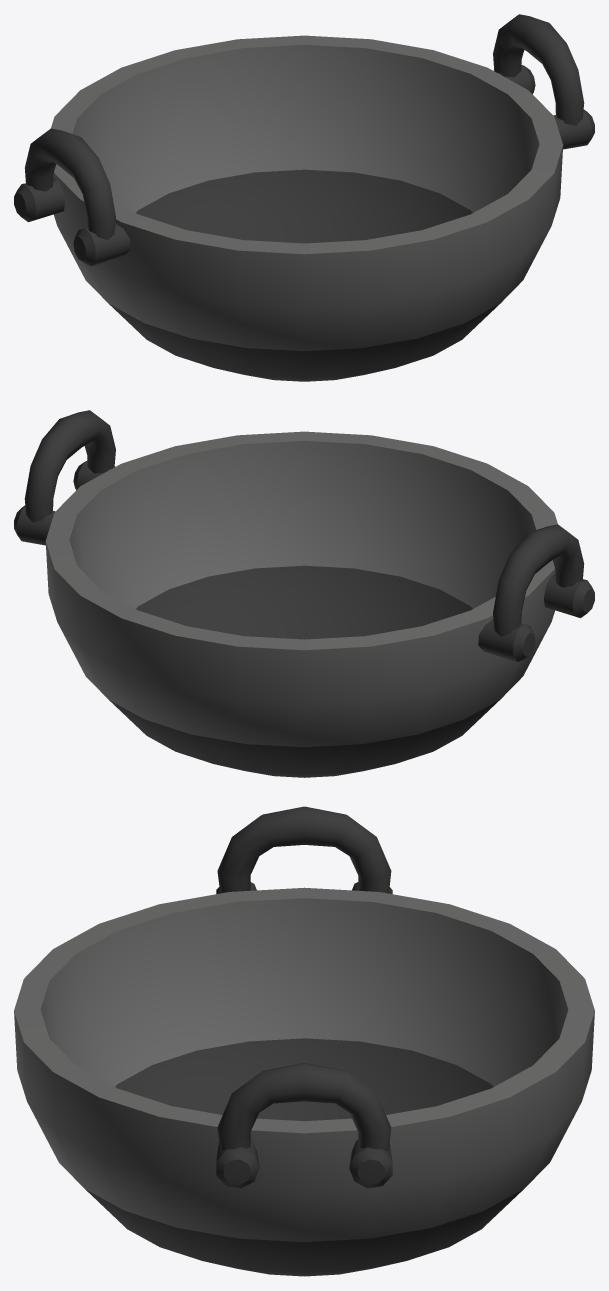
The model's file is Wok_01.fbx.
3 renders of one model, top to bottom at view 1: azimuth 30°, elevation 25°; view 2: azimuth 150°, elevation 25°; view 3: azimuth 270°, elevation 25°, orthographic. The views are drawn at different scales.
Parts seen in each view (by area): view 1: Wok_01; view 2: Wok_01; view 3: Wok_01.
Boxes of the visible parts, box(x1,y1,x2,y2) form: Wok_01: box(14, 14, 594, 381); Wok_01: box(14, 410, 594, 777); Wok_01: box(14, 806, 594, 1276).
Bounding box in the file's own units: 91.52 × 46.47 × 80.4.
